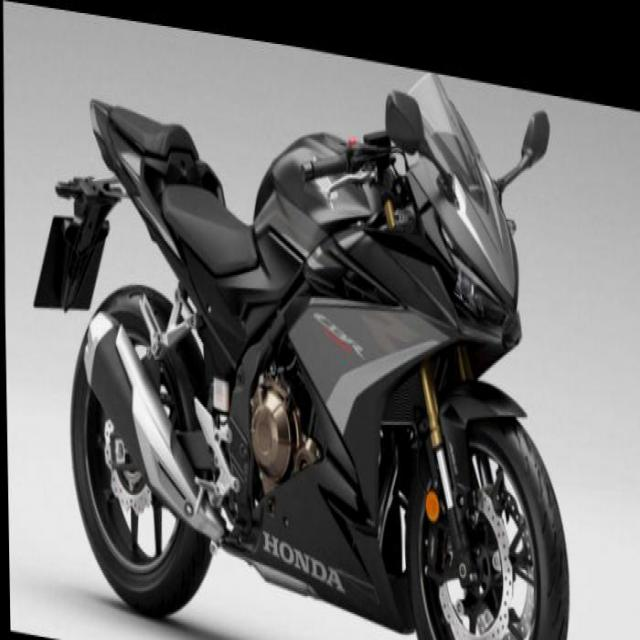CBR500R: (24, 2, 576, 638)
